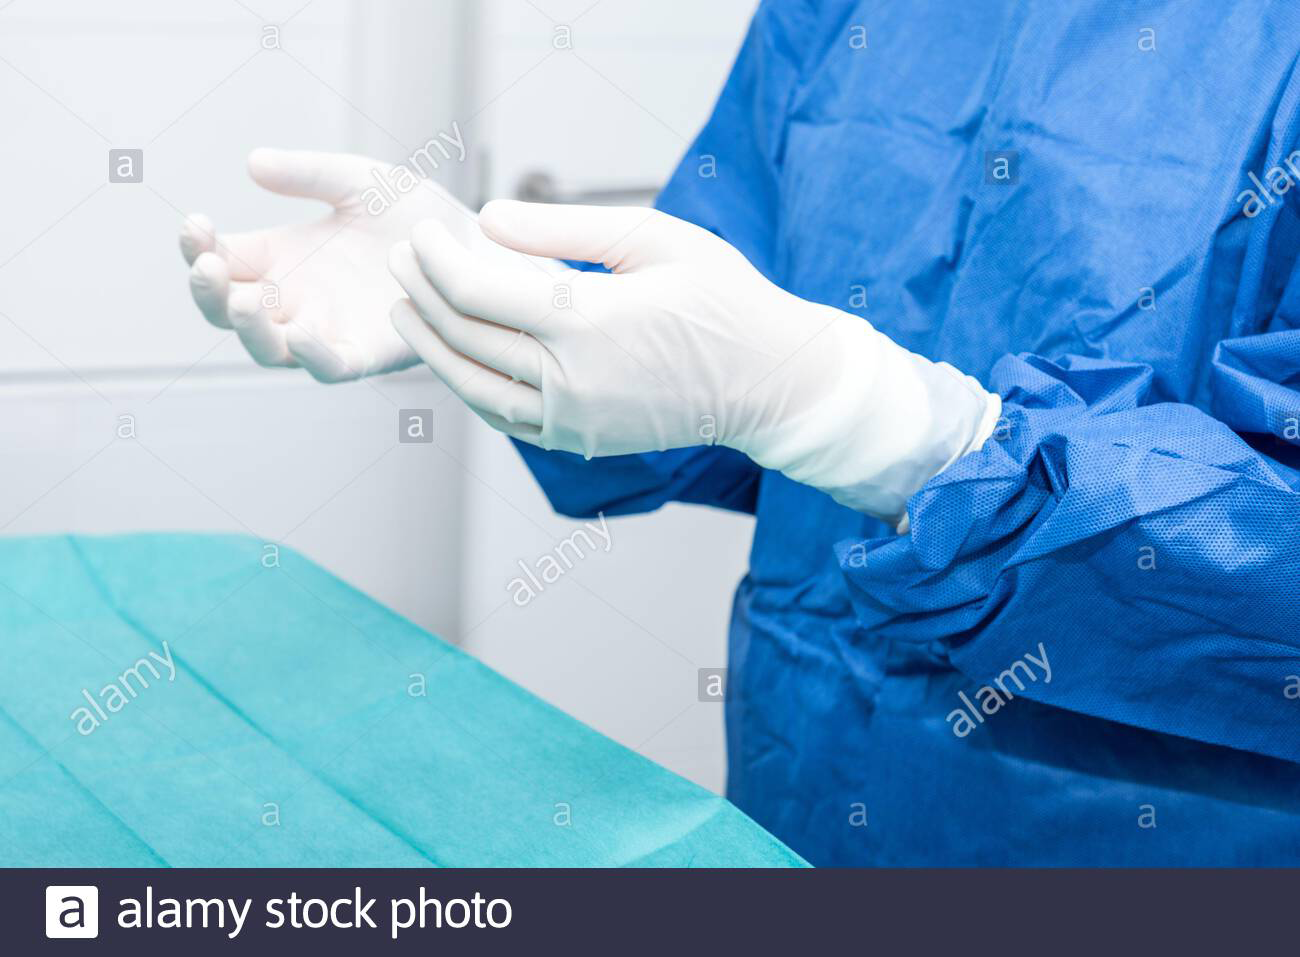Gloves: (389, 191, 1001, 517), (178, 151, 510, 399)
